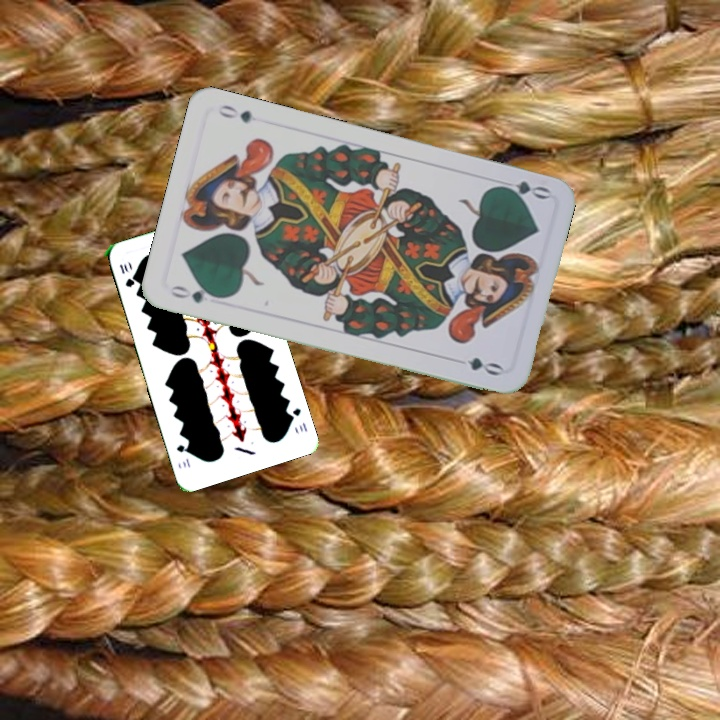G10: (285, 404, 310, 435), (115, 259, 137, 290)
GO: (492, 175, 552, 203), (166, 281, 225, 306)
